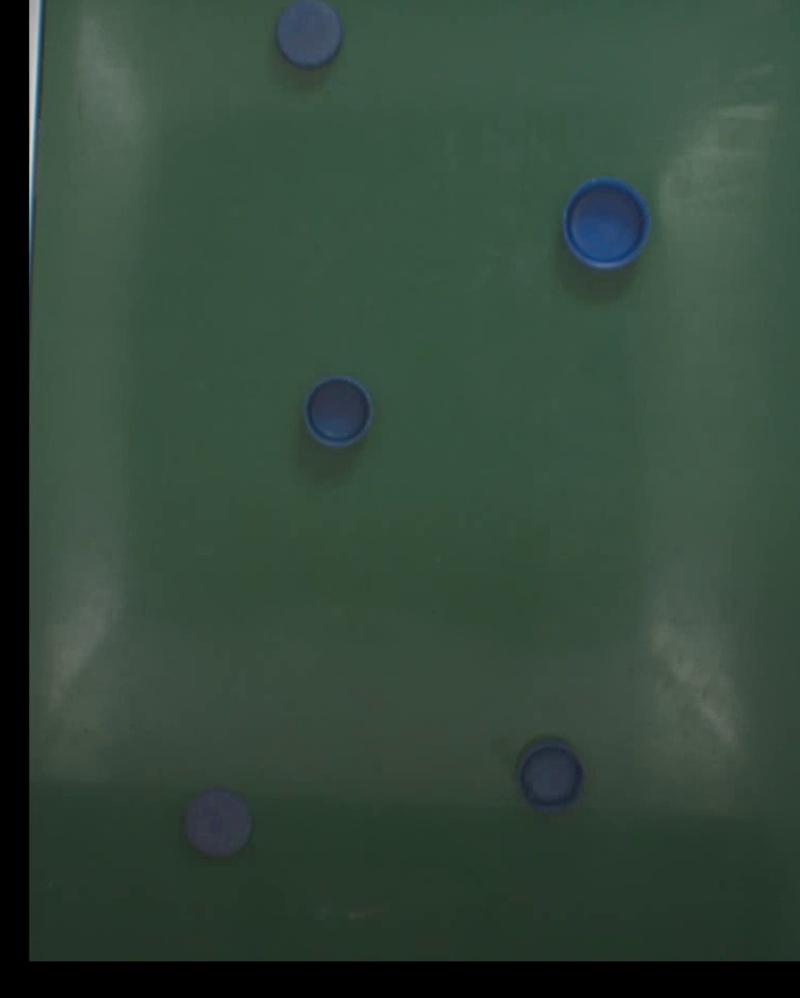Dark Blue: (562, 177, 650, 270), (517, 738, 584, 815), (304, 375, 373, 449), (184, 787, 252, 859), (275, 0, 343, 68)
